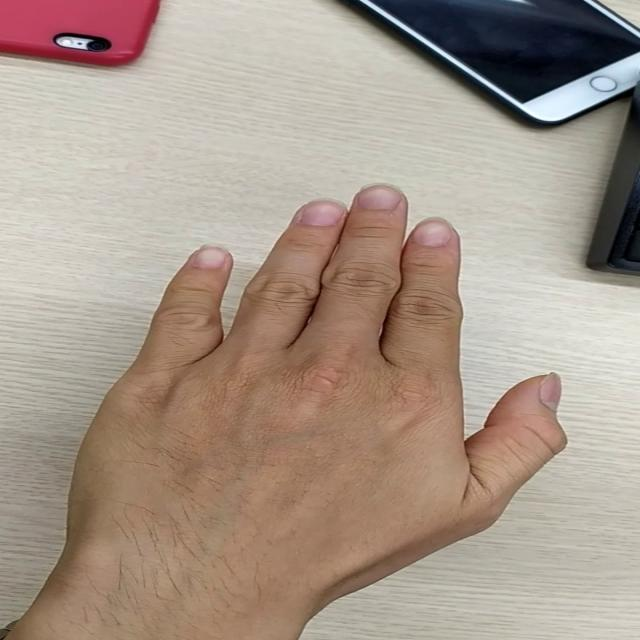hand: (114, 178, 564, 572)
